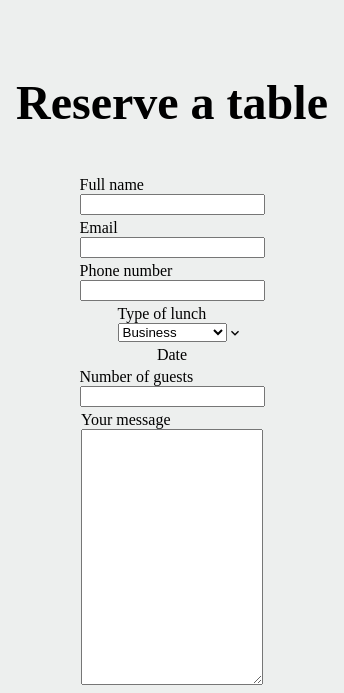
Scenario: empty Full name
# enter input
Clear the field with id "fullName" at coordinates (172, 205), box [80,194,264,215]
(page scrolled)
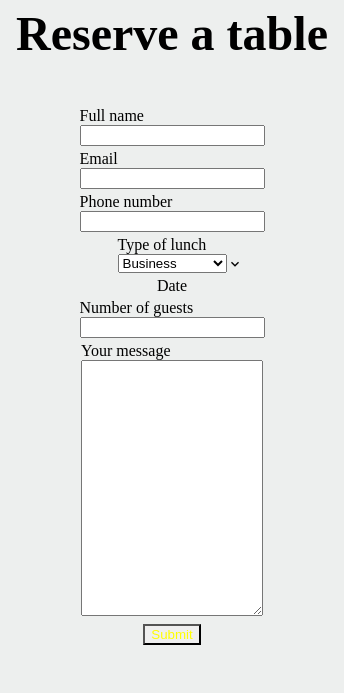
# click submit
Click the button with id "booking-submit".
click(172, 635)  # box [143,624,201,645]
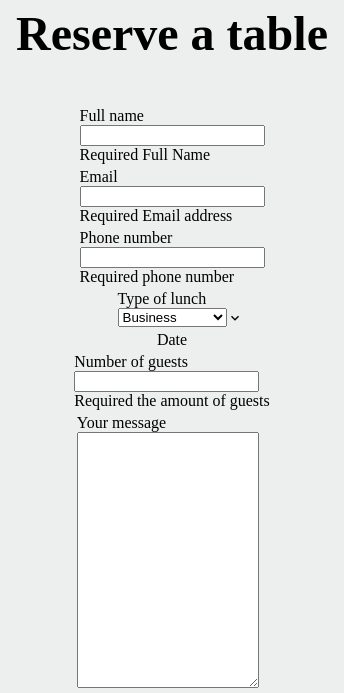
Expected: the text "Required Full Name" is shown, [80,146,210,163]
